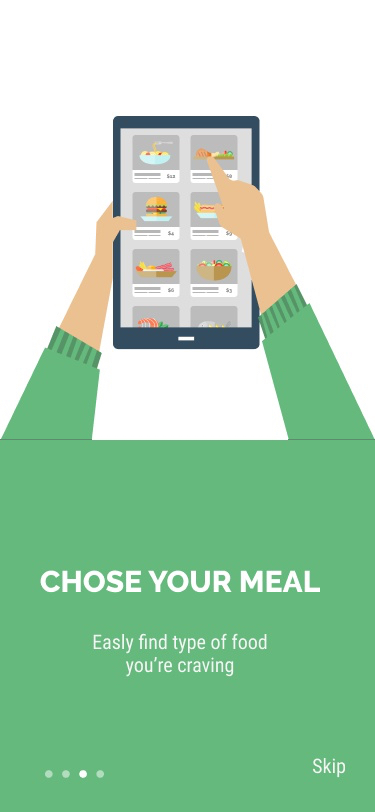Image: (1, 116, 375, 441)
PageIndicator: (45, 769, 106, 779)
Text: (94, 633, 268, 677), (41, 570, 321, 593), (312, 757, 346, 778)
